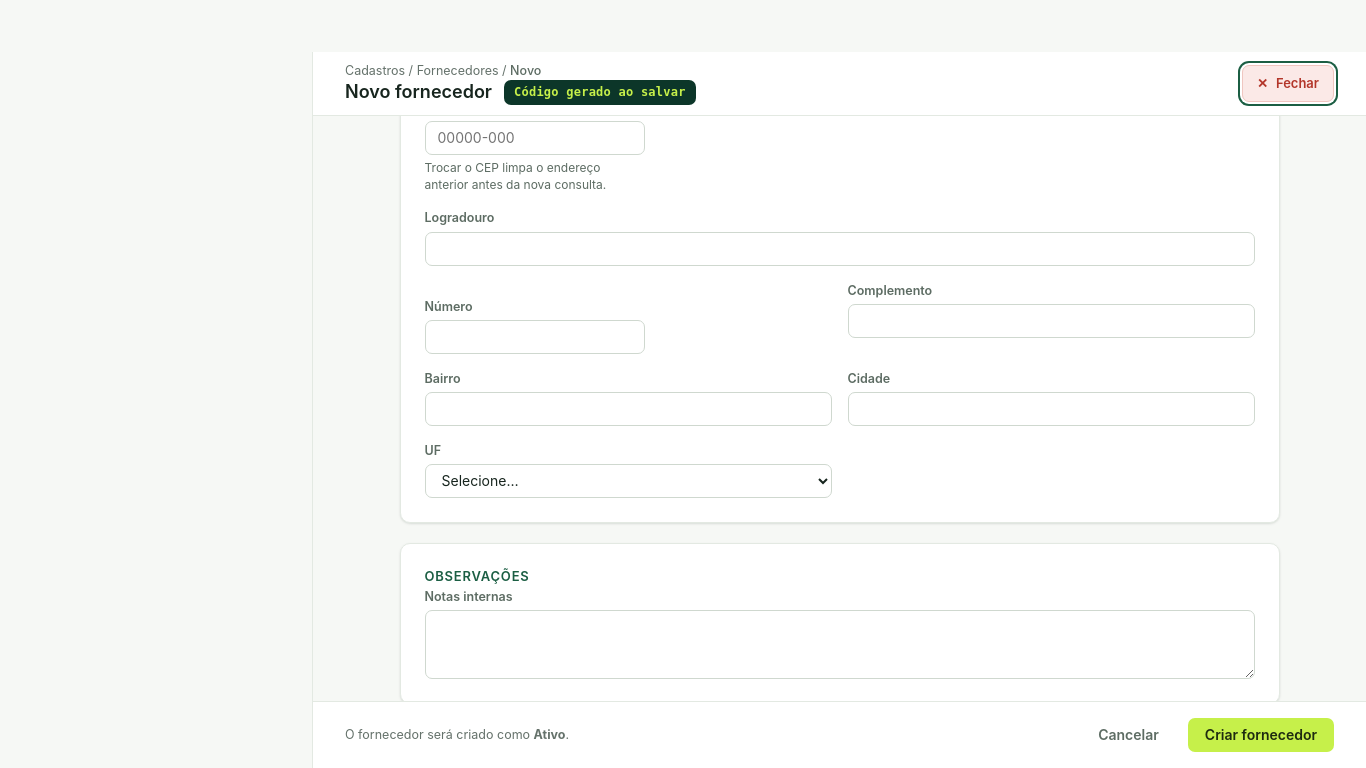
it: Endereço do Fornecedor — consulta de CEP › preenche o que está vazio e respeita o que foi digitado
(page scrolled)
Type "Cidade da pessoa" into the field with id "supplier-city" at (1051,409), box x1=848 y1=392 x2=1254 y2=426
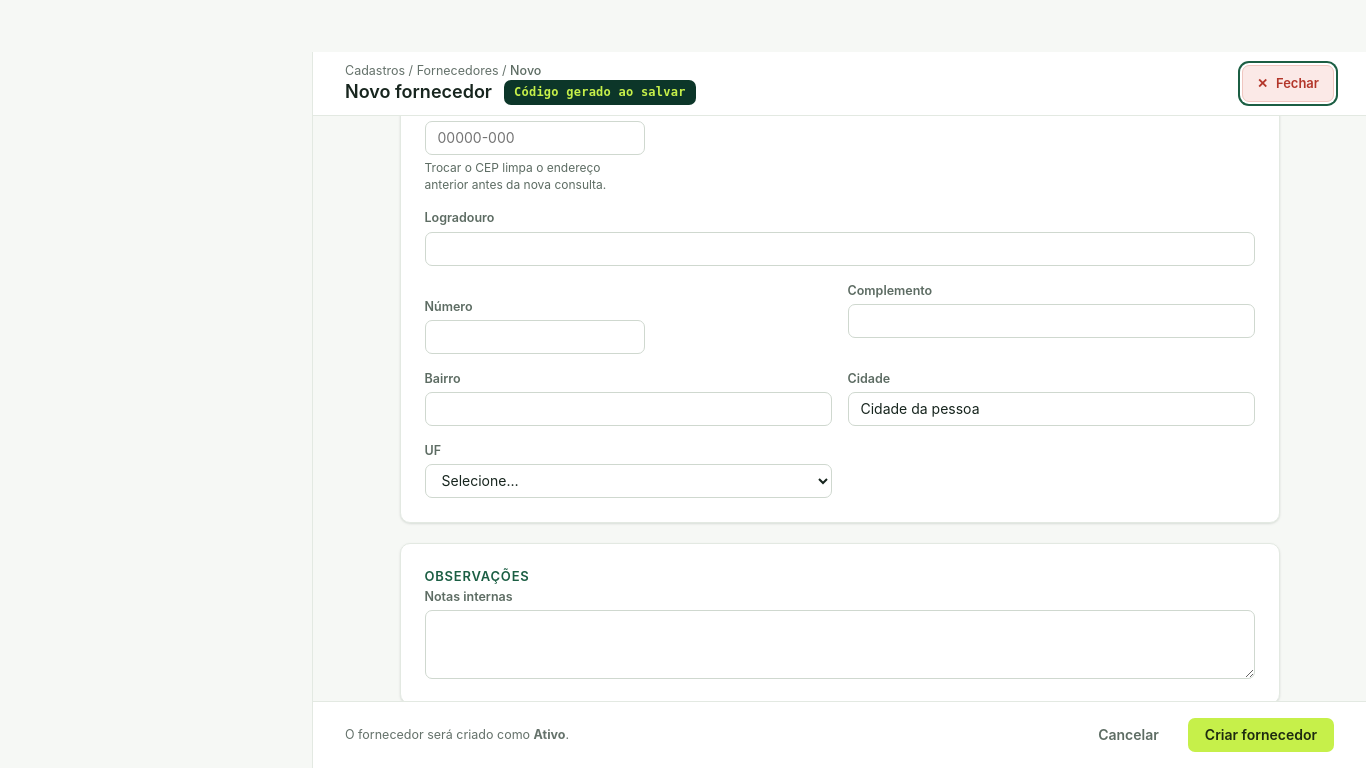
Type "04816100" into the field with id "supplier-zip" at (534,138), box x1=424 y1=121 x2=644 y2=155
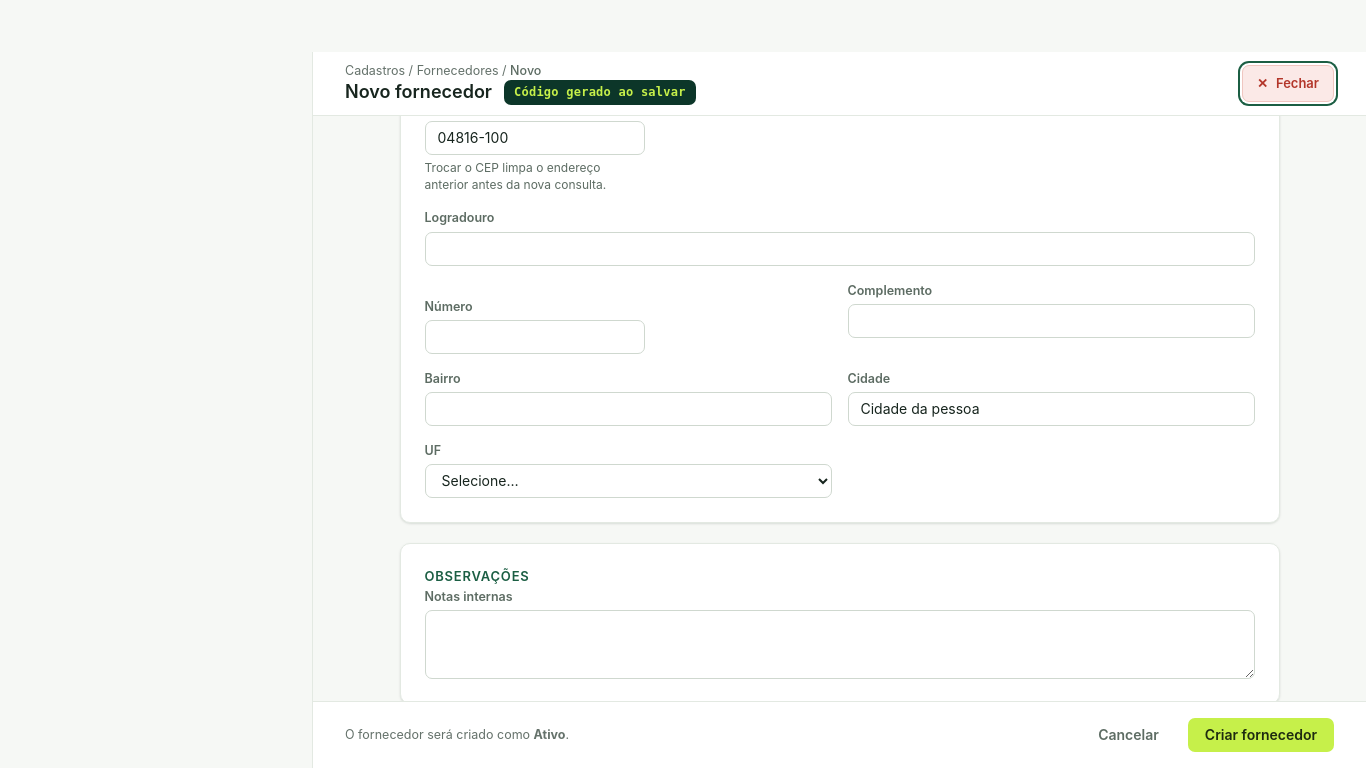
Leave the field with id "supplier-zip", box x1=424 y1=121 x2=644 y2=155
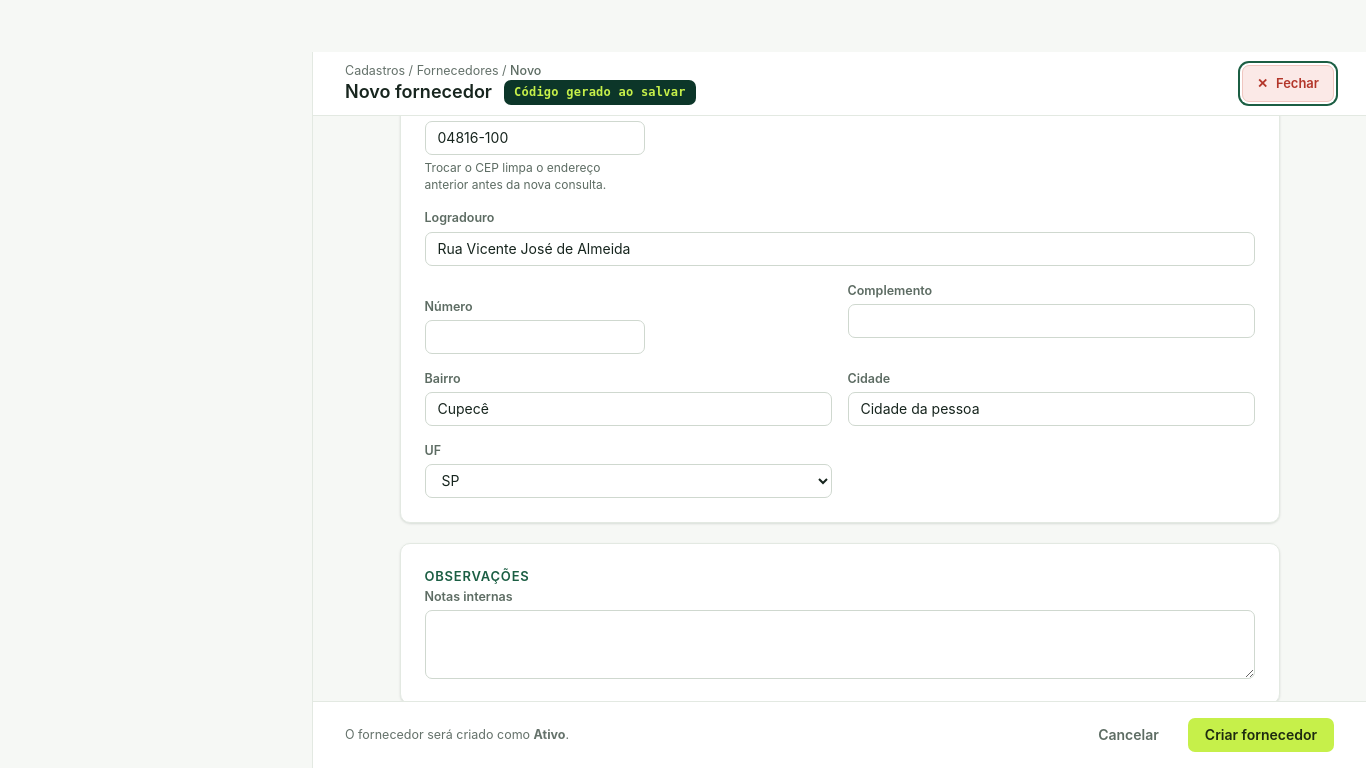
Now the field with id "supplier-street" holds "Rua Vicente José de Almeida", box x1=424 y1=232 x2=1254 y2=266
Now the field with id "supplier-district" holds "Cupecê", box x1=424 y1=392 x2=832 y2=426
